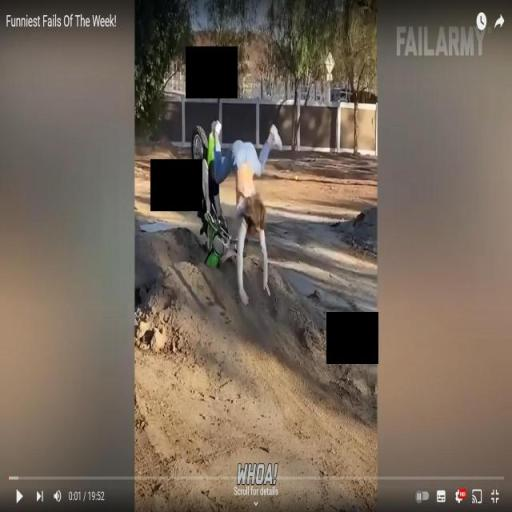Fall: (209, 114, 286, 309)
